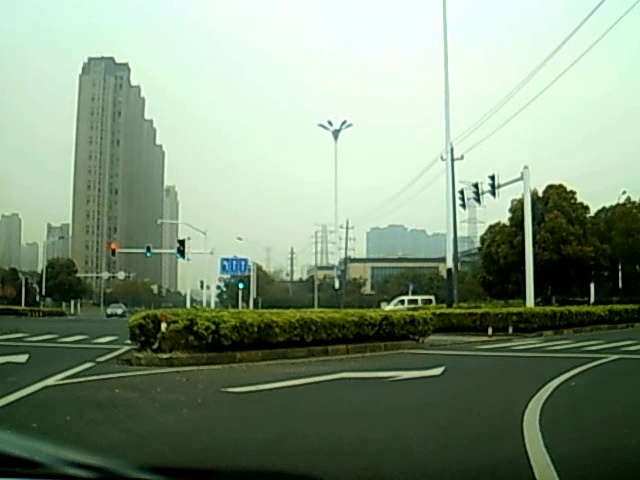Traffic_Light_go: (144, 246, 152, 258), (237, 279, 244, 291)
Traffic_Light_stop: (108, 242, 117, 261)
